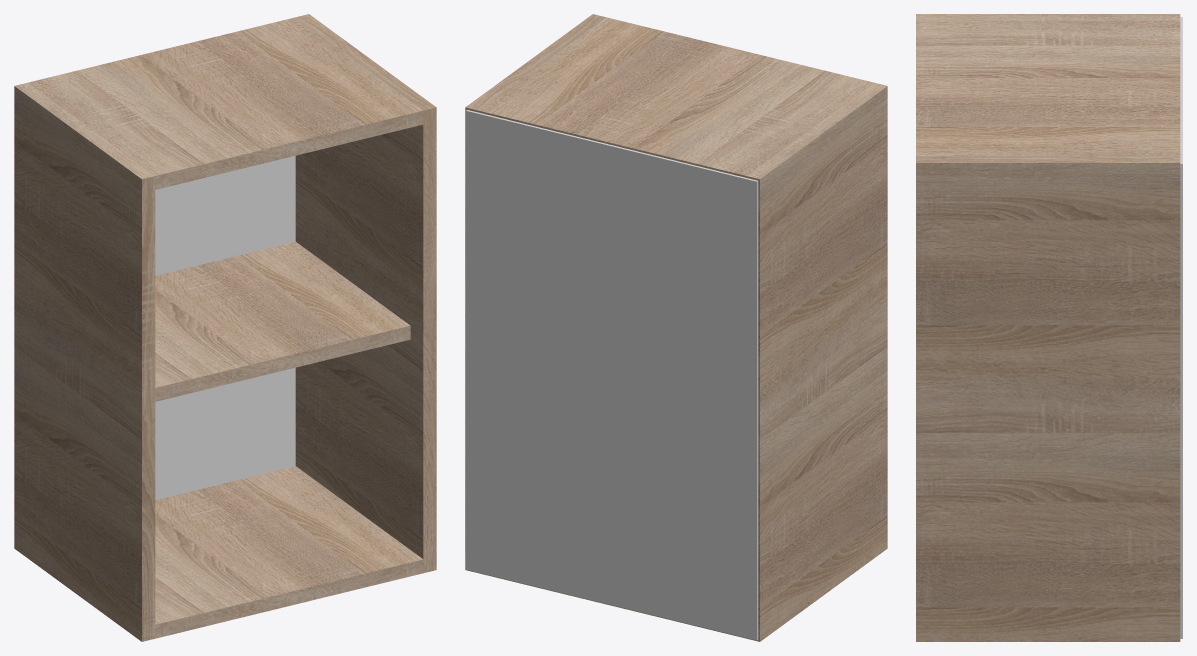
The model's file is s_fny_40.glb.
3 views of the same model, side by side, from view 1: azimuth 30°, elevation 25°; view 2: azimuth 150°, elevation 25°; view 3: azimuth 270°, elevation 25° (orthographic). The views are drawn at different scales.
Visible parts, largest first — view 1: s_fny_40_korpusz; view 2: s_fny_40_korpusz; view 3: s_fny_40_korpusz.
Boxes of the visible parts, box(x1,y1,x2,y2) form: s_fny_40_korpusz: box(14, 14, 436, 641); s_fny_40_korpusz: box(465, 14, 887, 641); s_fny_40_korpusz: box(916, 14, 1182, 641).
Size of the model in its own units: 0.4 by 0.6 by 0.303.
2 materials, 1 textured.
